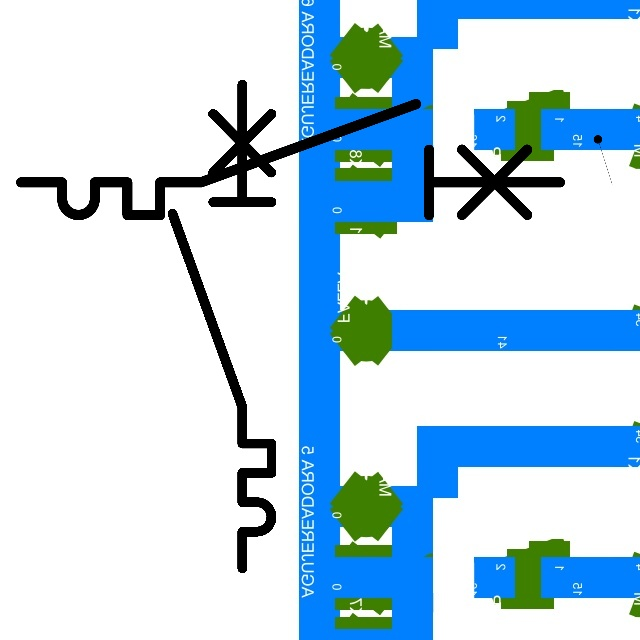interruptor_termomagnetico: (7, 90, 573, 229), (160, 72, 284, 581)
